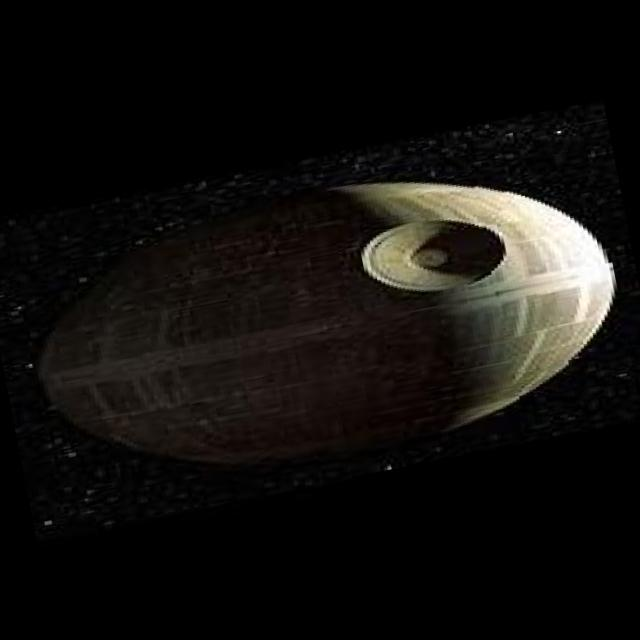Death Star: (5, 129, 640, 518)
